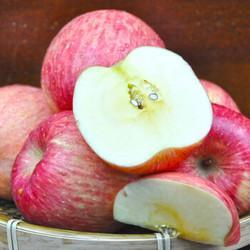apple: (8, 111, 132, 234), (40, 10, 163, 113), (183, 104, 247, 215), (1, 84, 61, 198)
